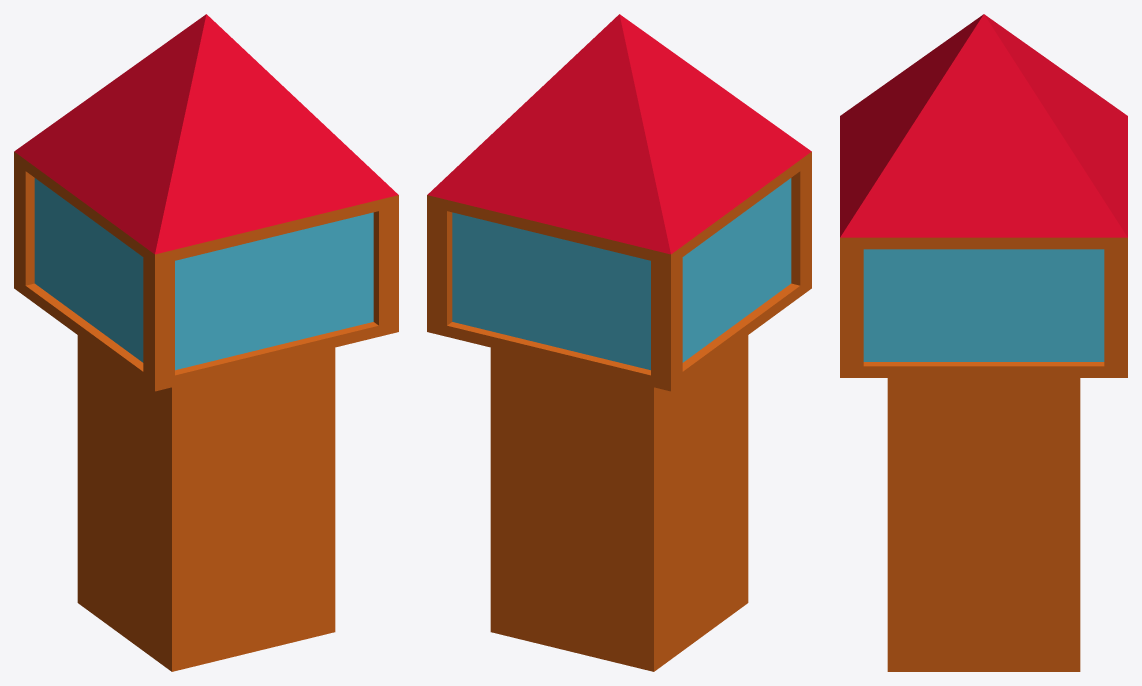
File: Tower.fbx
3 renders of one model, left to right at view 1: azimuth 30°, elevation 25°; view 2: azimuth 150°, elevation 25°; view 3: azimuth 270°, elevation 25°, orthographic. The views are drawn at different scales.
Parts seen in each view (by area): view 1: Tower; view 2: Tower; view 3: Tower.
Boxes of the visible parts, bbox=[...] form: Tower: bbox=[14, 14, 398, 671]; Tower: bbox=[427, 14, 811, 671]; Tower: bbox=[840, 14, 1127, 671].
Size of the model in its own units: 747 by 747 by 1766.
